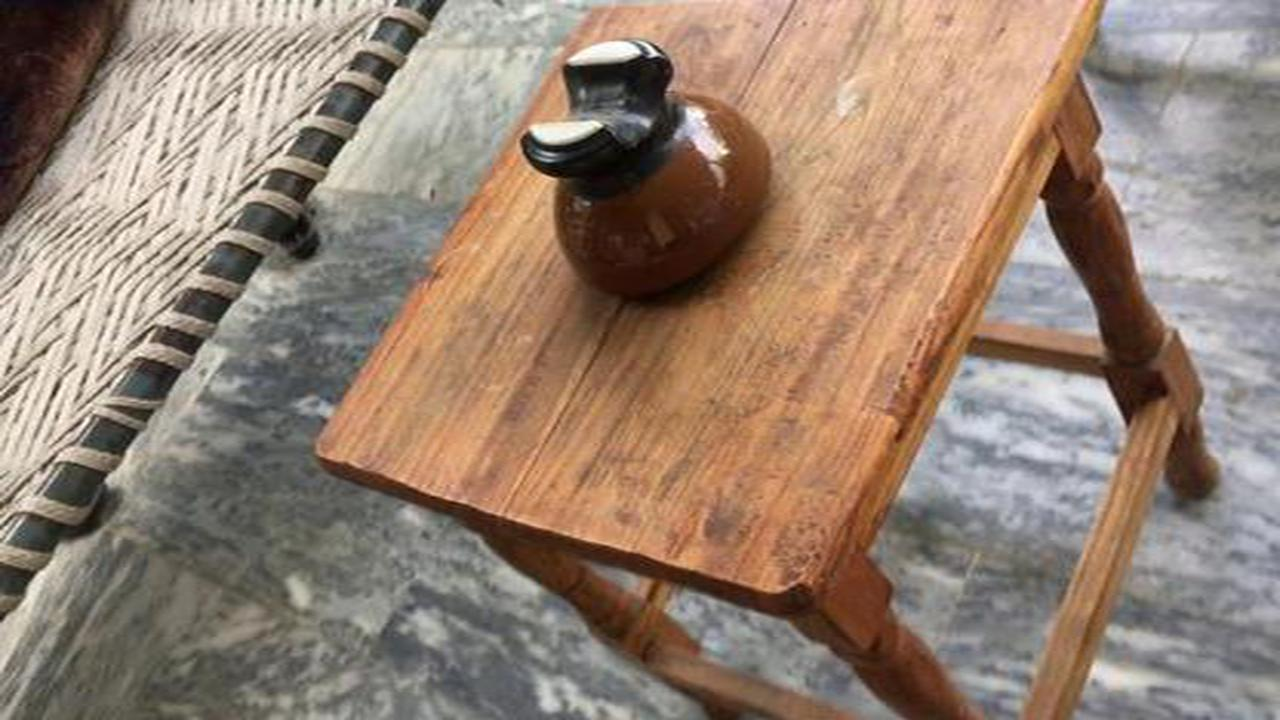insulator_pin: (505, 33, 785, 314)
